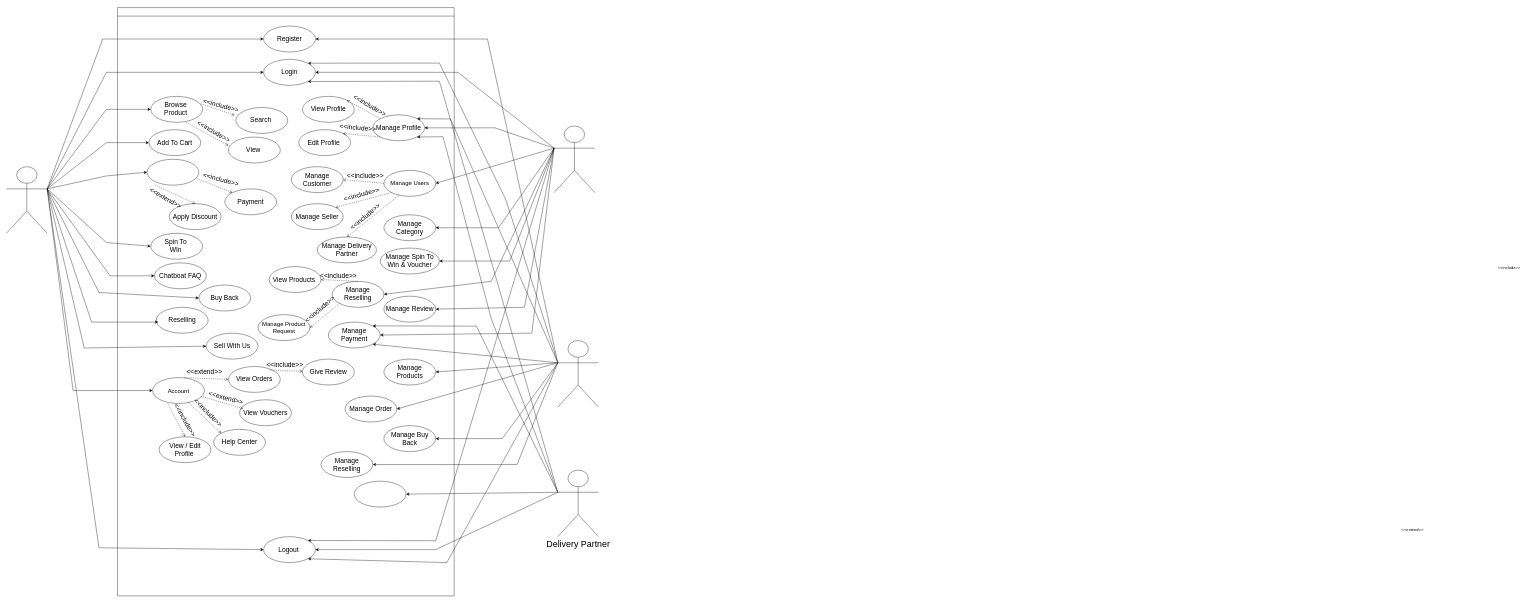
Some shapes in this 1527 by 602 pixel diagram are drawn without their labels. The shapes that lost their labels are listed below. From the top down, each one's box as (x1, y1, x2, y2) in pixels, then its label:
(147, 159, 199, 185): Place Order
(554, 126, 595, 193): Admin
(6, 166, 47, 233): Customer
(117, 7, 454, 596): StyleSurfer
(557, 340, 598, 407): Seller
(354, 481, 406, 507): View Assigned Order
